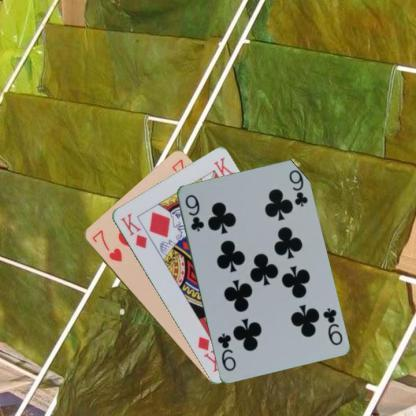7h: (89, 227, 123, 264)
9c: (320, 304, 344, 347), (182, 191, 205, 233)
Kd: (117, 210, 148, 250)
